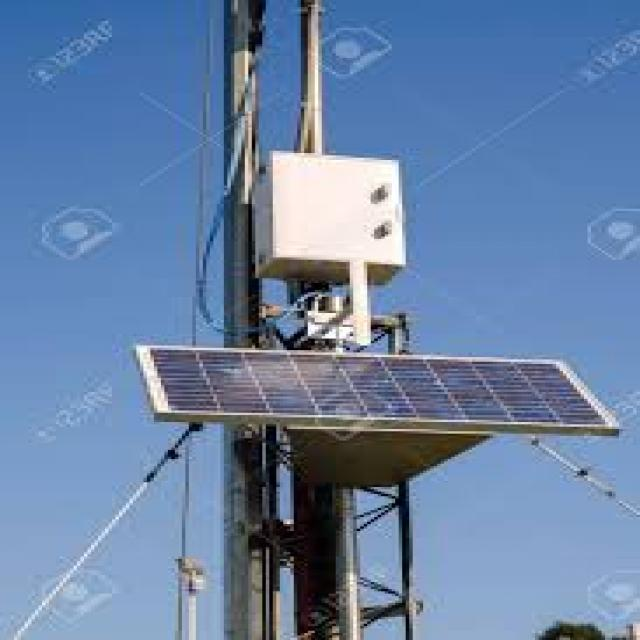faulty: (140, 346, 615, 422)
